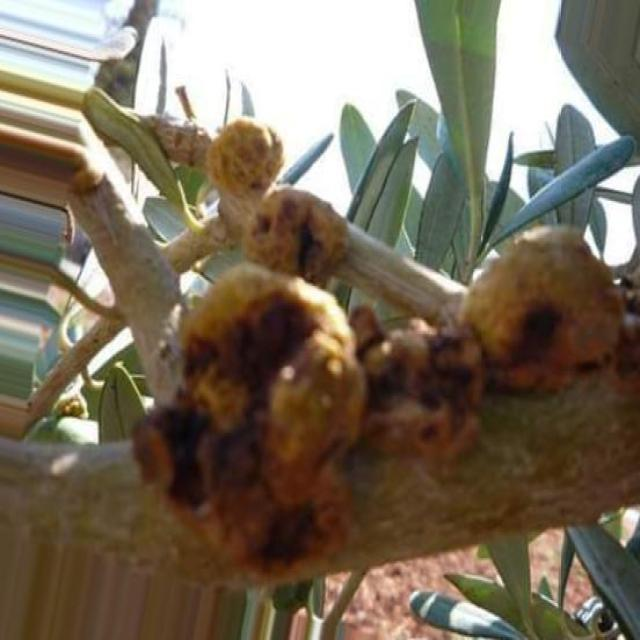Tuberculosis: (146, 264, 482, 568), (462, 224, 638, 402), (243, 188, 344, 282), (209, 116, 283, 204)
